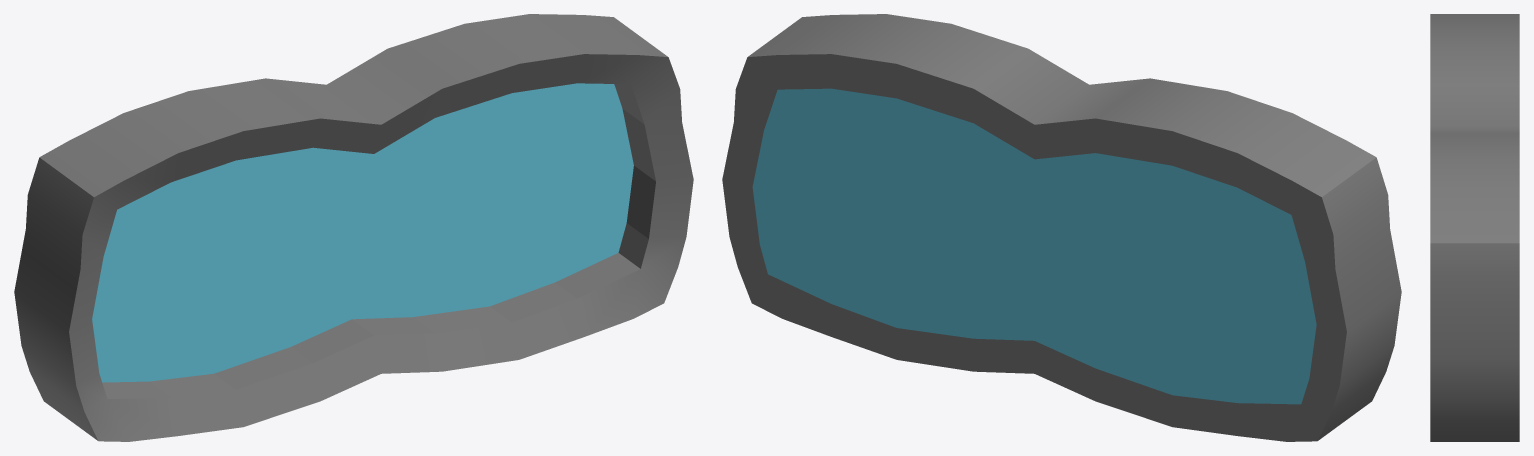
Rendered from GafasVR3D.fbx.
3 renders of one model, left to right at view 1: azimuth 30°, elevation 25°; view 2: azimuth 150°, elevation 25°; view 3: azimuth 270°, elevation 25°, orthographic. The views are drawn at different scales.
Parts seen in each view (by area): view 1: Box001; view 2: Box001; view 3: Box001.
Part boxes in pixels (<box>): Box001: <box>14,14,693,441</box>; Box001: <box>722,14,1401,441</box>; Box001: <box>1430,14,1519,441</box>.
Bounding box in the file's own units: 77.99 × 35.32 × 11.84.
